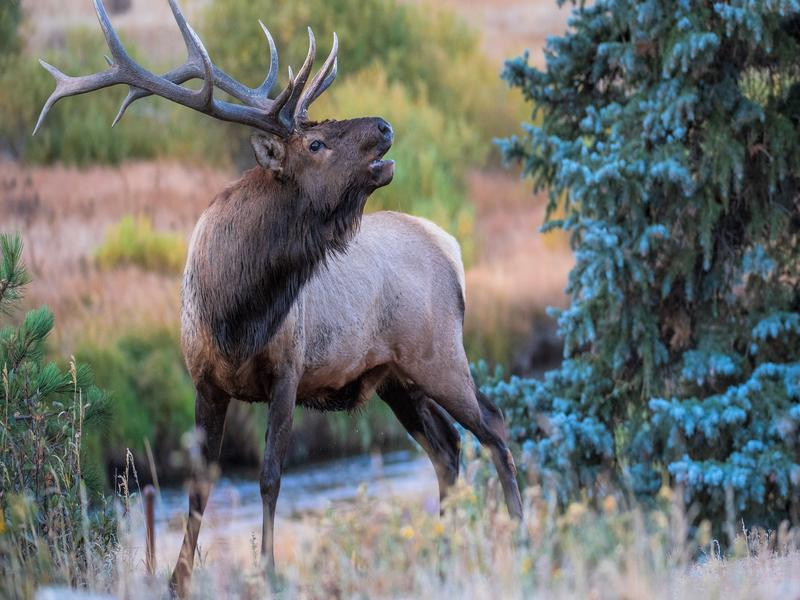elk: (34, 2, 528, 594)
